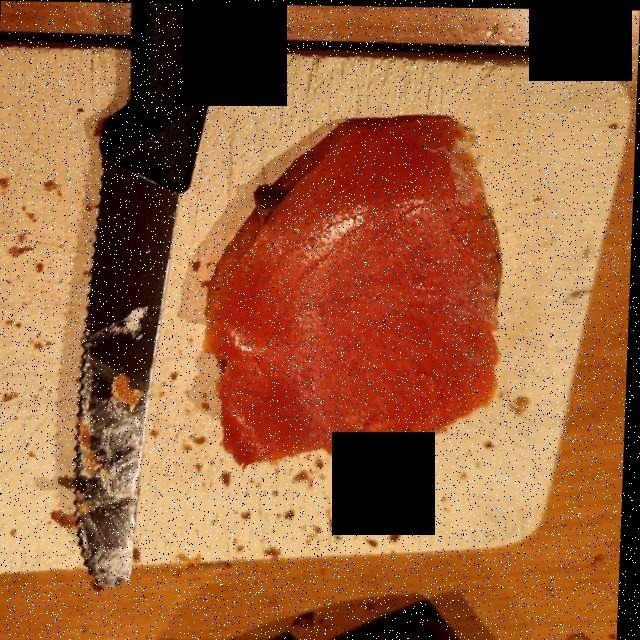salmon: (210, 113, 498, 451)
